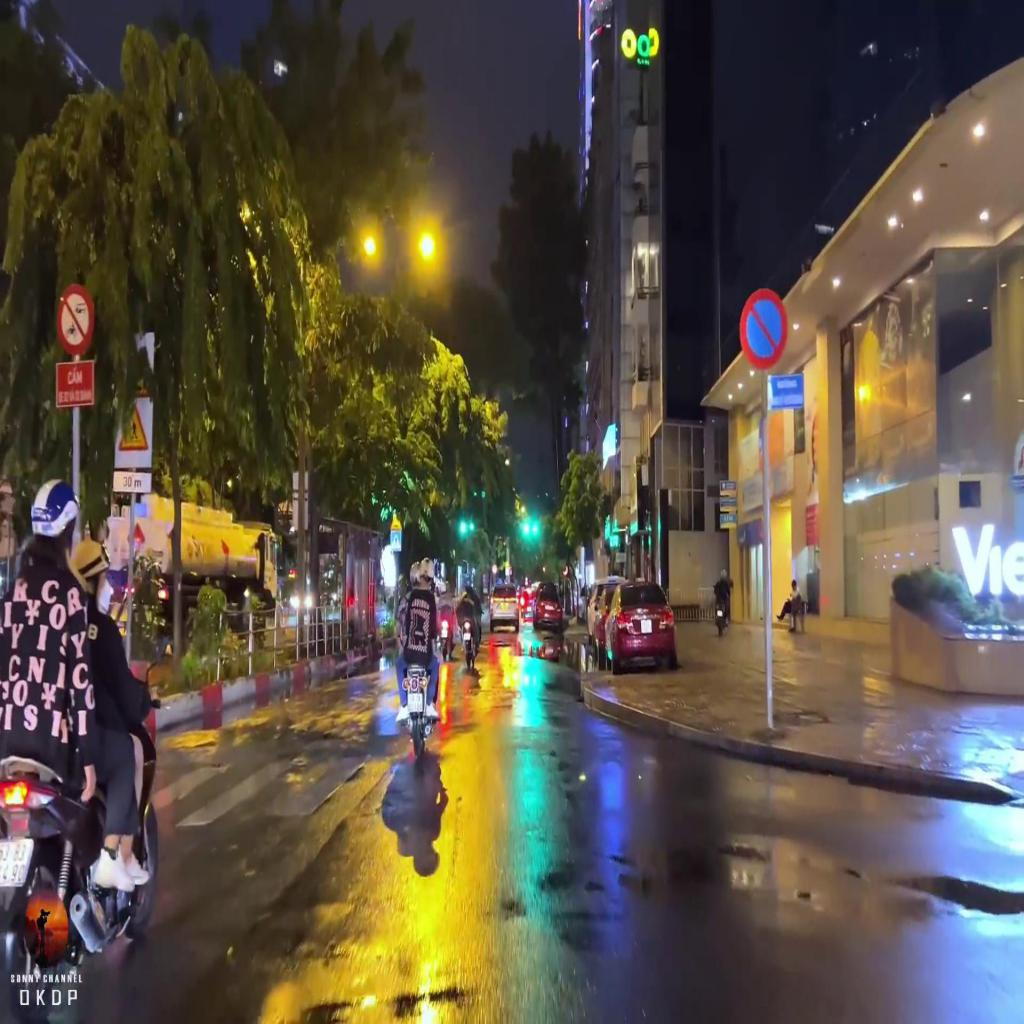cam_do_xe: (737, 286, 790, 371)
cam_xe_2_banh_va_xe_3_banh_co_dong_co: (56, 280, 95, 359)
chu_y_nguoi_di_bo_cat_ngang: (118, 401, 150, 451)
khac: (113, 470, 152, 490)
